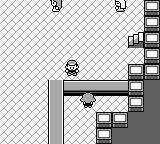main: (65, 61, 80, 75)
no-caminable: (128, 0, 159, 112), (111, 80, 159, 143), (96, 112, 128, 143), (96, 112, 127, 143), (64, 81, 128, 96), (48, 80, 63, 143)
npc: (80, 93, 96, 108), (114, 0, 127, 12), (50, 0, 62, 11)
puerta: (128, 32, 143, 47)
